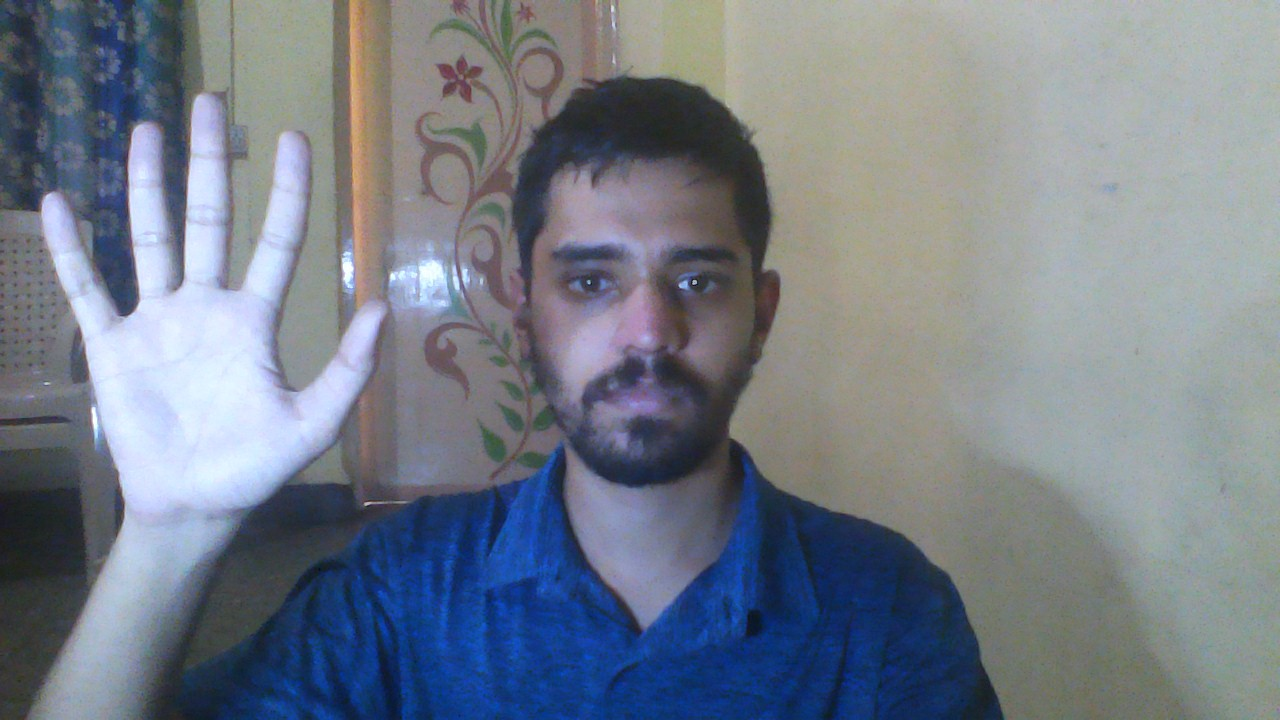hello: (24, 76, 408, 535)
